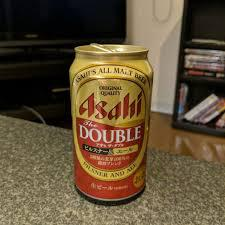beer: (67, 40, 151, 208)
